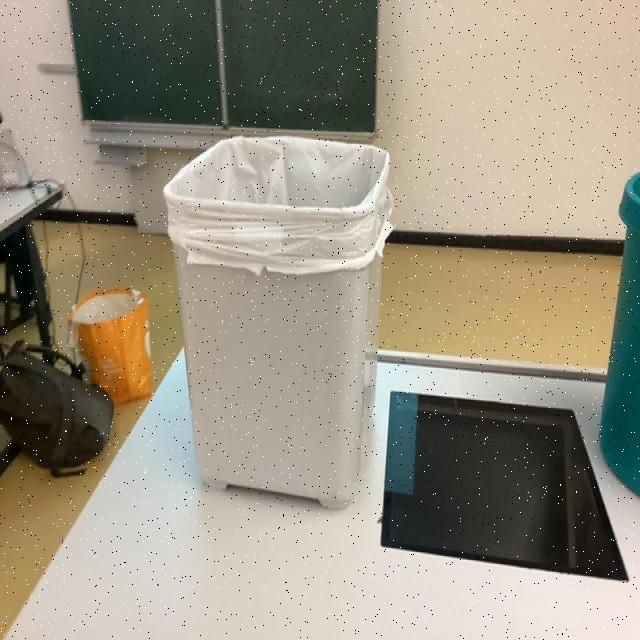garbage container: (150, 118, 410, 518)
